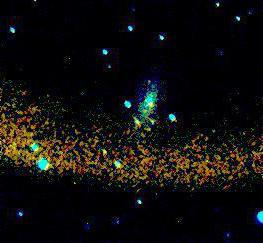star: (137, 66, 167, 96)
